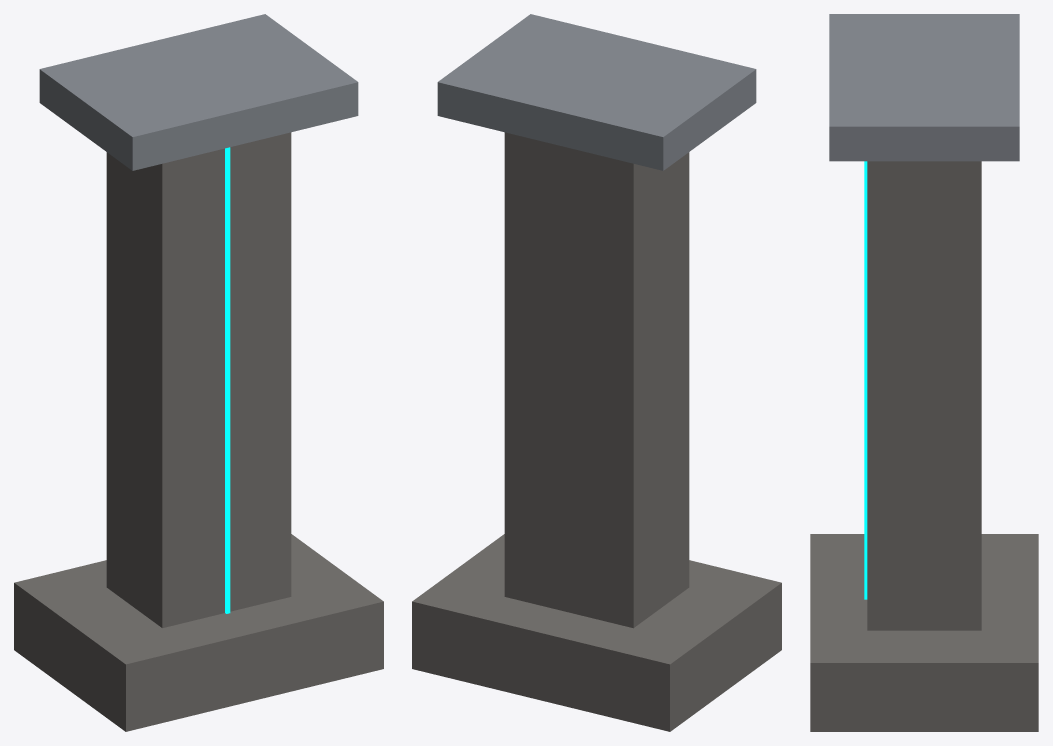
The model's file is ELEV_Bridge_Pillar.glb.
The picture shows the model from 3 angles, left to right: view 1: azimuth 30°, elevation 25°; view 2: azimuth 150°, elevation 25°; view 3: azimuth 270°, elevation 25°; orthographic projection. The views are drawn at different scales.
Visible parts, largest first — view 1: ELEV_Bridge_Pillar; view 2: ELEV_Bridge_Pillar; view 3: ELEV_Bridge_Pillar.
Boxes of the visible parts, x1,y1,x2,y2 form: ELEV_Bridge_Pillar: (14, 14, 383, 731); ELEV_Bridge_Pillar: (412, 14, 781, 731); ELEV_Bridge_Pillar: (810, 14, 1038, 731).
Size of the model in its own units: 4 by 8.65 by 3.
